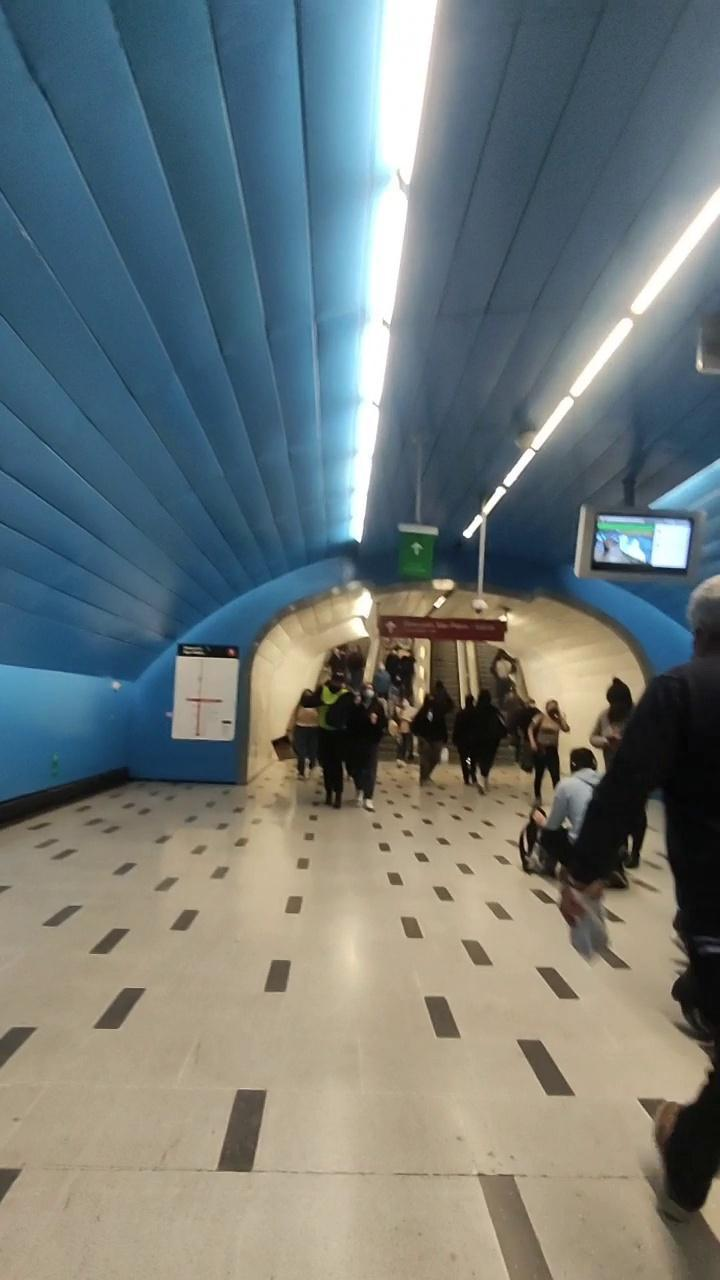up arrow: (385, 618, 399, 636)
